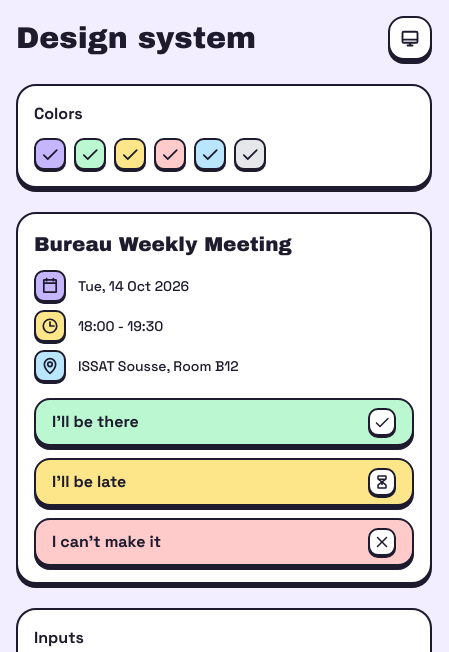
Test case: DesignShowcase response demo › stamps CONFIRMED after choosing attend
What coordinates should you click on to do the following:
click the button "I'll be there"
I would click on:
 (95, 422)
Its box is [34,398,414,446].
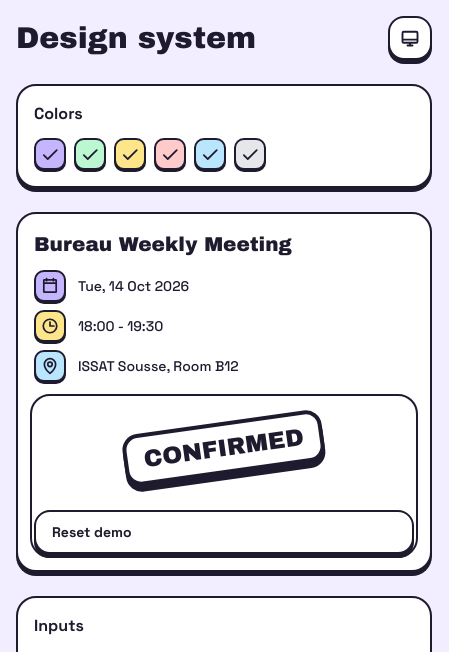
Expected: the text "CONFIRMED" is shown, [121,408,327,488]
